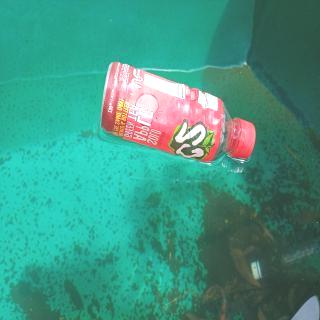bottle: (98, 60, 256, 163)
